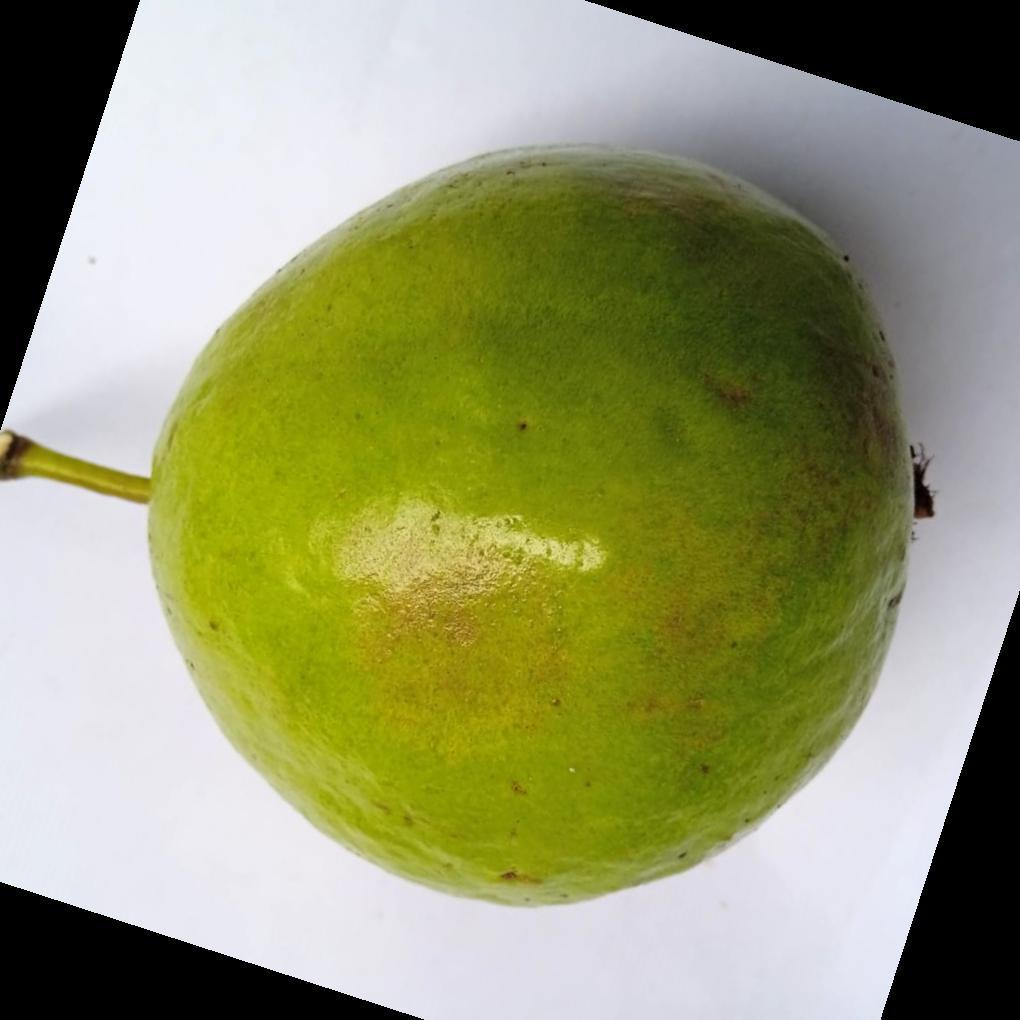FreshGuava: (103, 145, 926, 913)
